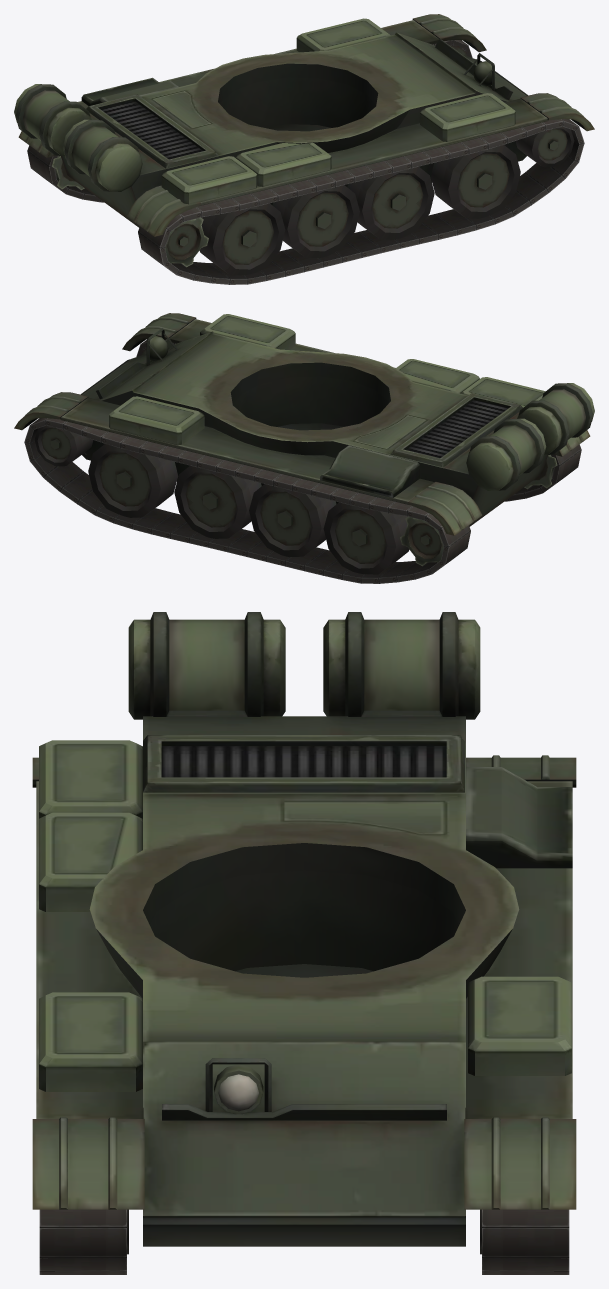
3 renders of one model, top to bottom at view 1: azimuth 30°, elevation 25°; view 2: azimuth 150°, elevation 25°; view 3: azimuth 270°, elevation 25°, orthographic. The views are drawn at different scales.
Visible parts, largest first — view 1: body0_model0_lod0_mesh0, body0_model0_lod0_mesh1; view 2: body0_model0_lod0_mesh0, body0_model0_lod0_mesh1; view 3: body0_model0_lod0_mesh0, body0_model0_lod0_mesh1.
Part boxes in pixels (box(x1,y1,x2,y2)): body0_model0_lod0_mesh0: box(14, 14, 594, 236); body0_model0_lod0_mesh1: box(27, 40, 584, 284); body0_model0_lod0_mesh0: box(14, 313, 594, 535); body0_model0_lod0_mesh1: box(24, 339, 581, 583); body0_model0_lod0_mesh0: box(32, 612, 576, 1246); body0_model0_lod0_mesh1: box(39, 1209, 569, 1274).
Size of the model in its own units: 357 by 109 by 177.
2 materials, 2 textured.
